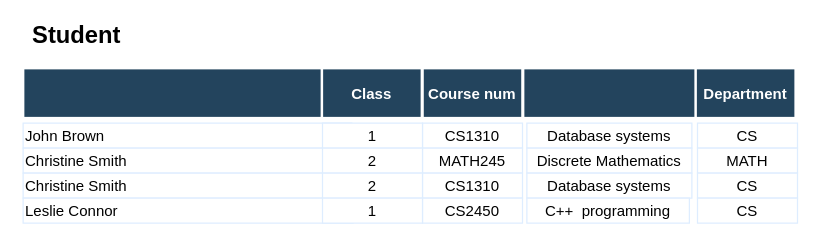
Some shapes in this 819 by 245 pixel diagram are drawn without their labels. Here are the shapes that lost their labels. From the top down, the box of each, then its label:
(21, 66, 352, 119): Student name
(521, 66, 702, 119): Course name
